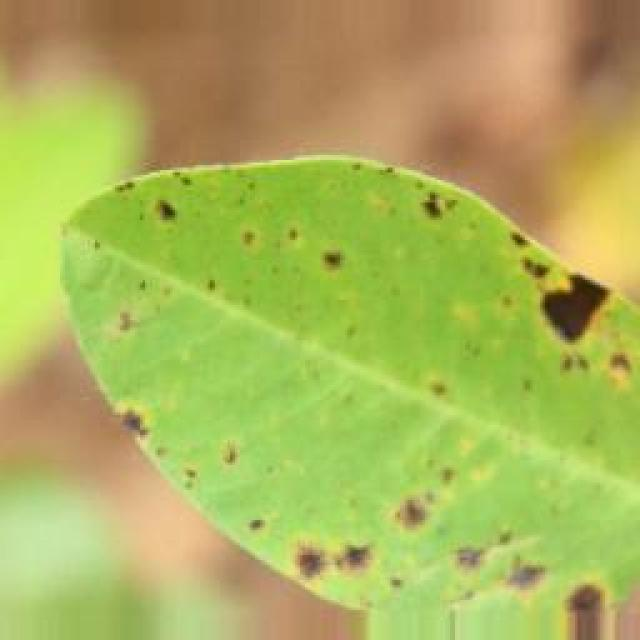Yellowish: (29, 127, 617, 640)
